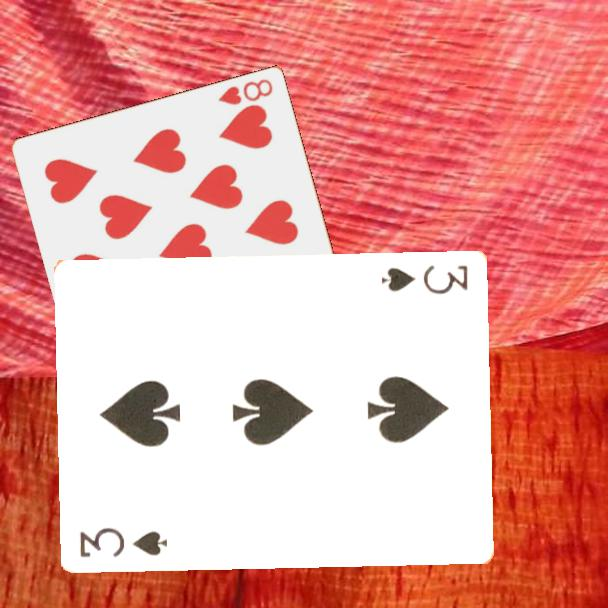h08: (215, 75, 276, 107)
s03: (378, 261, 472, 296), (76, 525, 170, 560)
